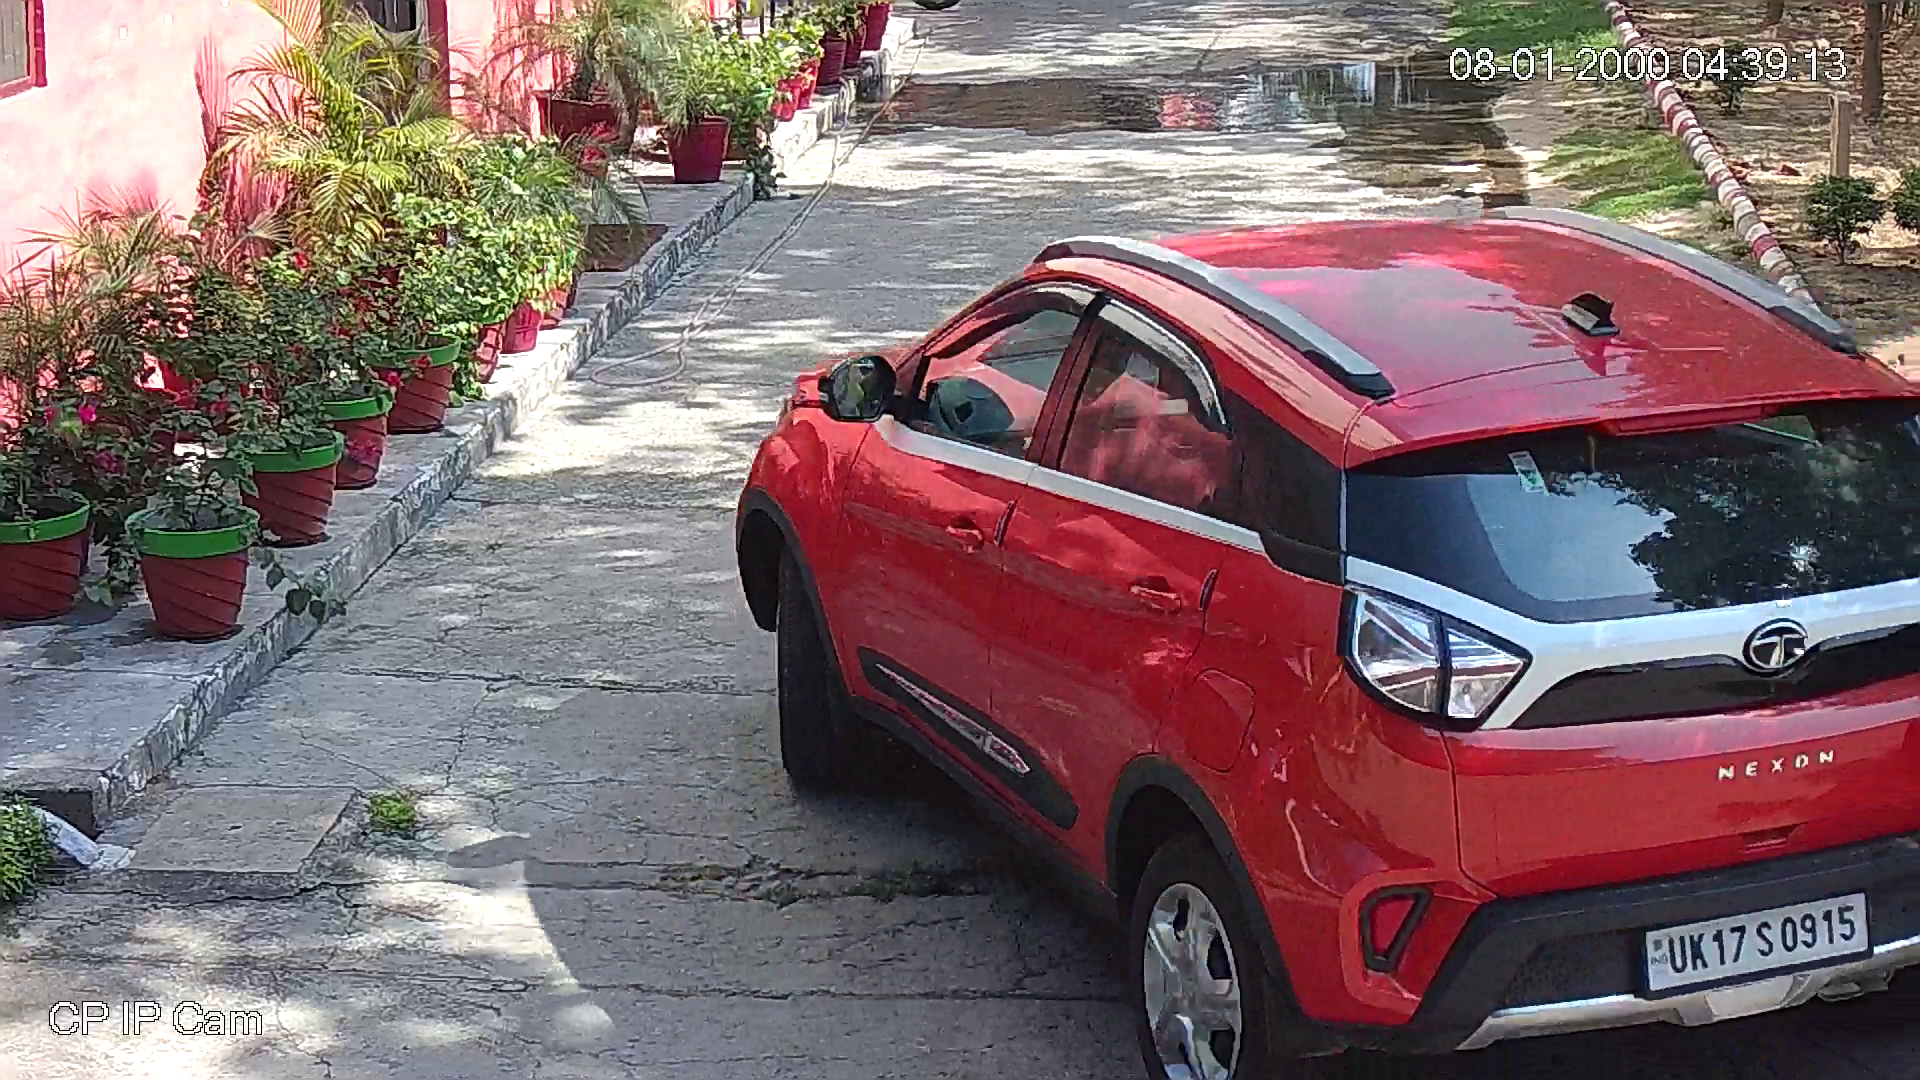plate: (1635, 877, 1878, 1004)
